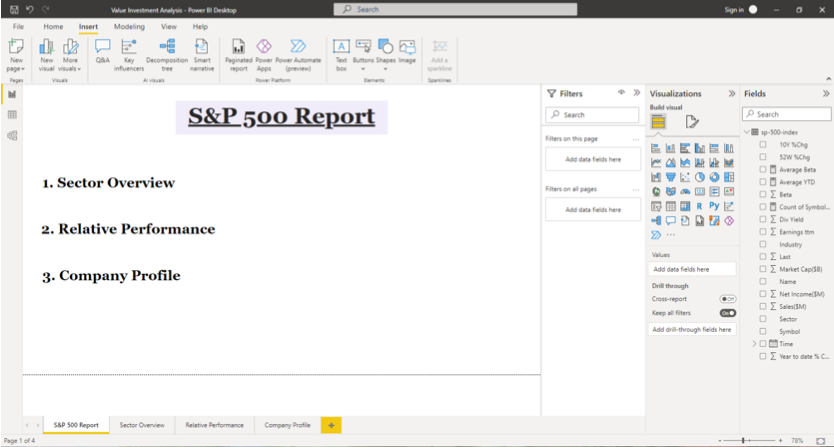

What the dashboard file says about the page in this screenshot:
{"tool":"powerbi","page":{"name":"S&P 500 Report","canvas":[1280,720],"ordinal":0},"visuals":[{"type":"actionButton","title":"1. Sector Overview ","box":[33,209.6,357.7,72.9],"z":0},{"type":"textbox","box":[378.2,42.2,524.1,84.3],"z":1000},{"type":"actionButton","box":[33,328.1,454.6,63.8],"z":2000},{"type":"actionButton","box":[33,440.9,371.4,68.4],"z":3000}]}

Visuals, with their boxes on the page's 1280x720 design canvas (x1, y1, x2, y2). These are canvas units, not pixel positions in the 834x447 screenshot, which may show the page scaled, cropped or inside an application window:
"1. Sector Overview " actionButton: detection(33, 210, 391, 282)
textbox: detection(378, 42, 902, 126)
actionButton: detection(33, 328, 488, 392)
actionButton: detection(33, 441, 404, 509)
